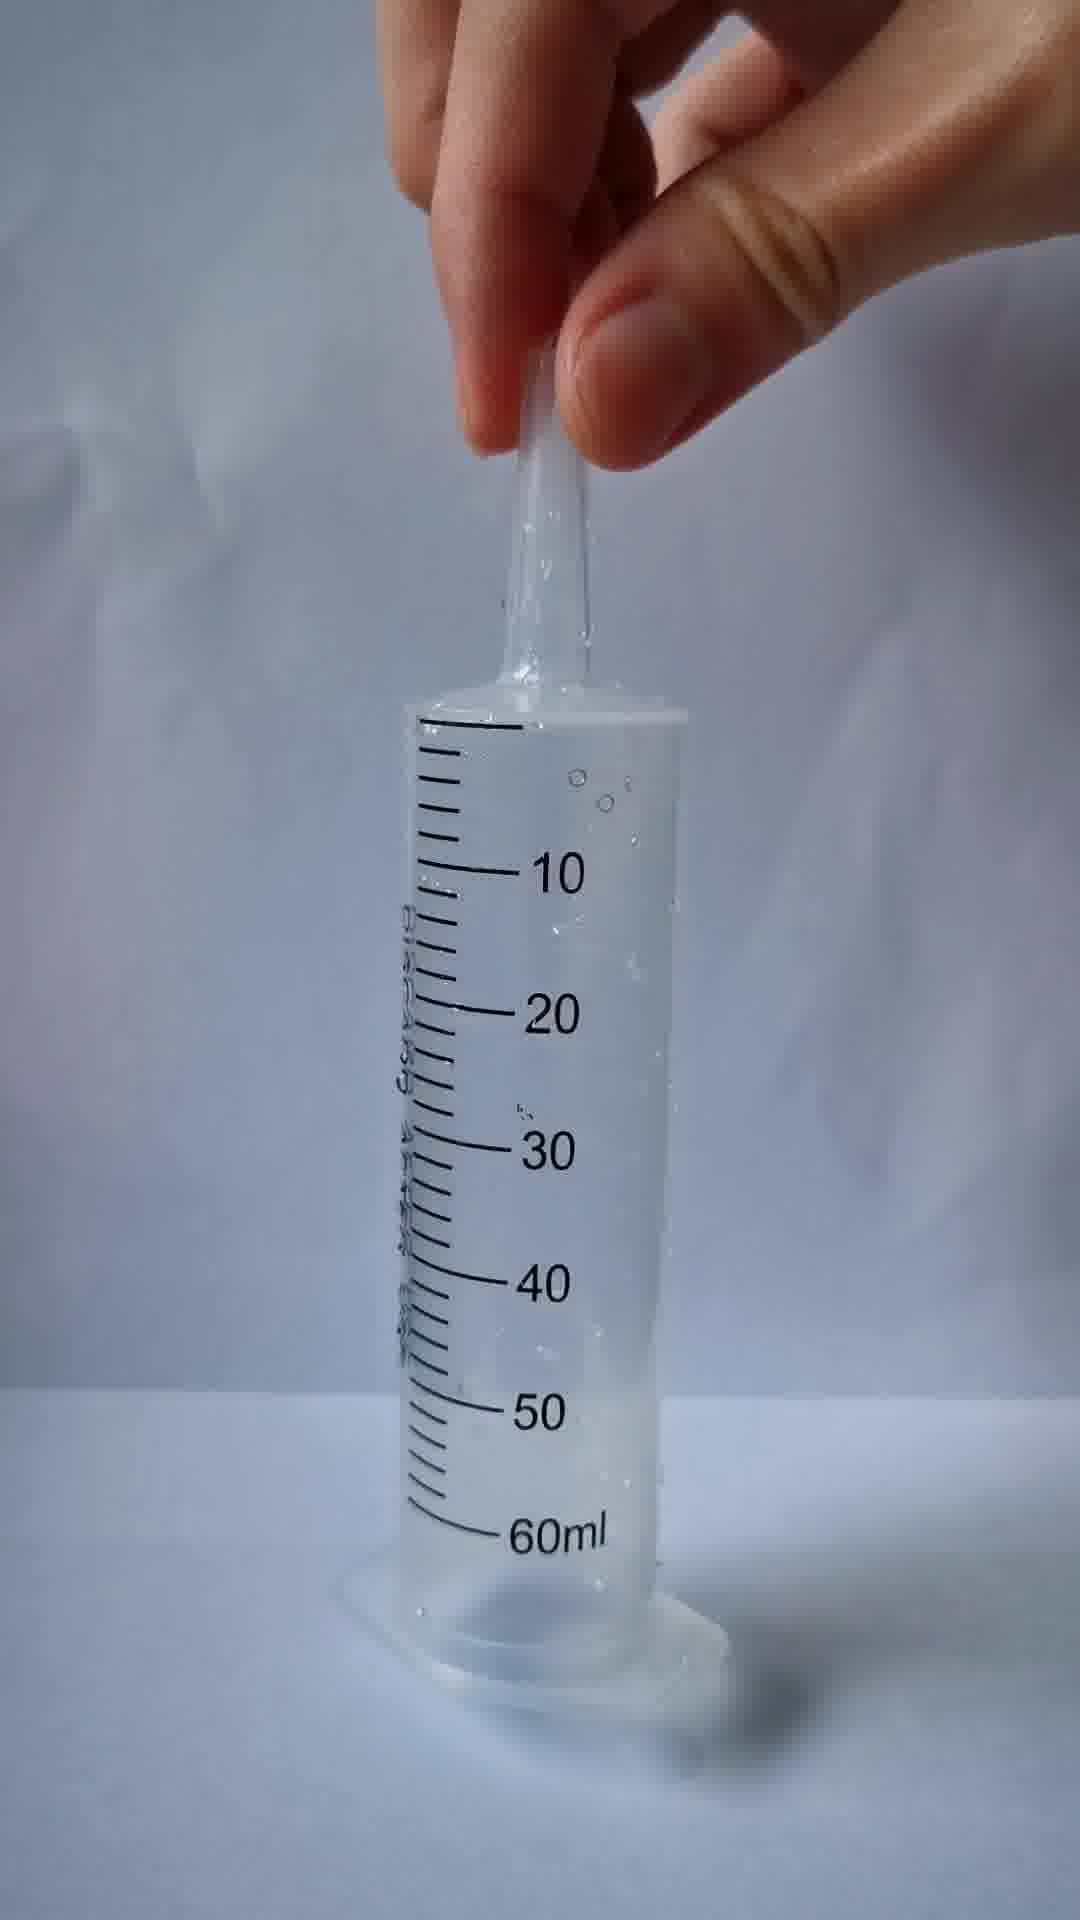syringe: (324, 345, 733, 1712)
